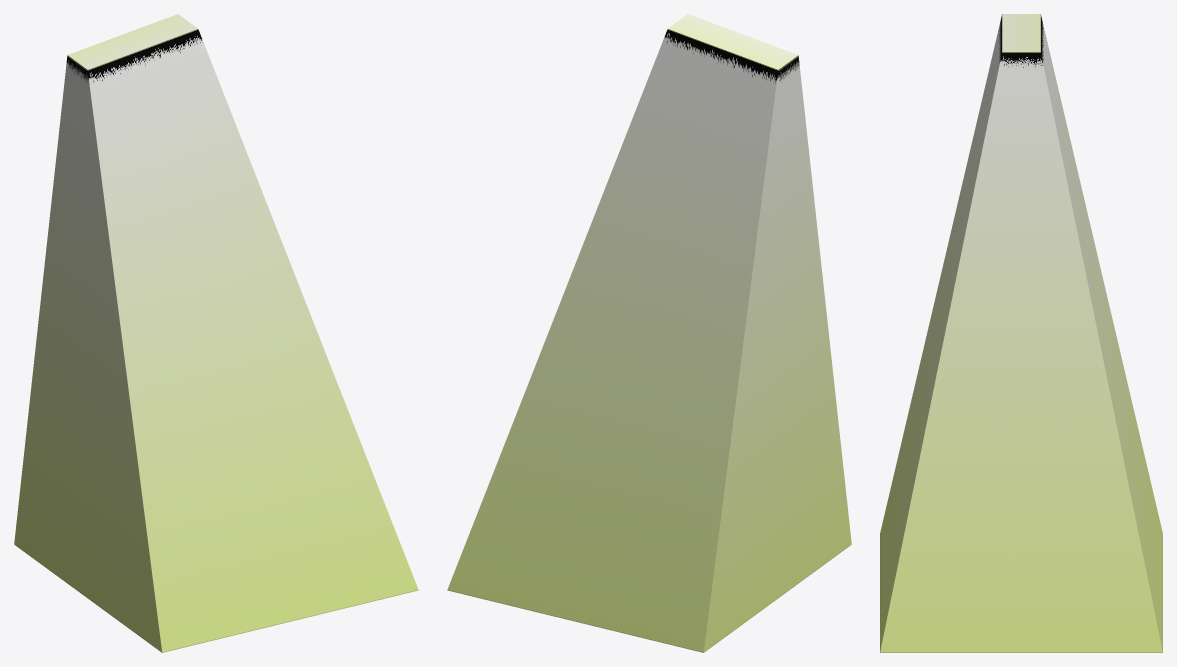
Rendered from light_ray.glb.
The picture shows the model from 3 angles, left to right: view 1: azimuth 30°, elevation 25°; view 2: azimuth 150°, elevation 25°; view 3: azimuth 270°, elevation 25°; orthographic projection. The views are drawn at different scales.
Visible parts, largest first — view 1: Cube.002; view 2: Cube.002; view 3: Cube.002.
Boxes of the visible parts, x1,y1,x2,y2 form: Cube.002: (14, 14, 418, 652); Cube.002: (447, 14, 851, 652); Cube.002: (880, 14, 1162, 652).
Bounding box in the file's own units: 2.08 × 4.12 × 2.
1 material, 1 textured.
